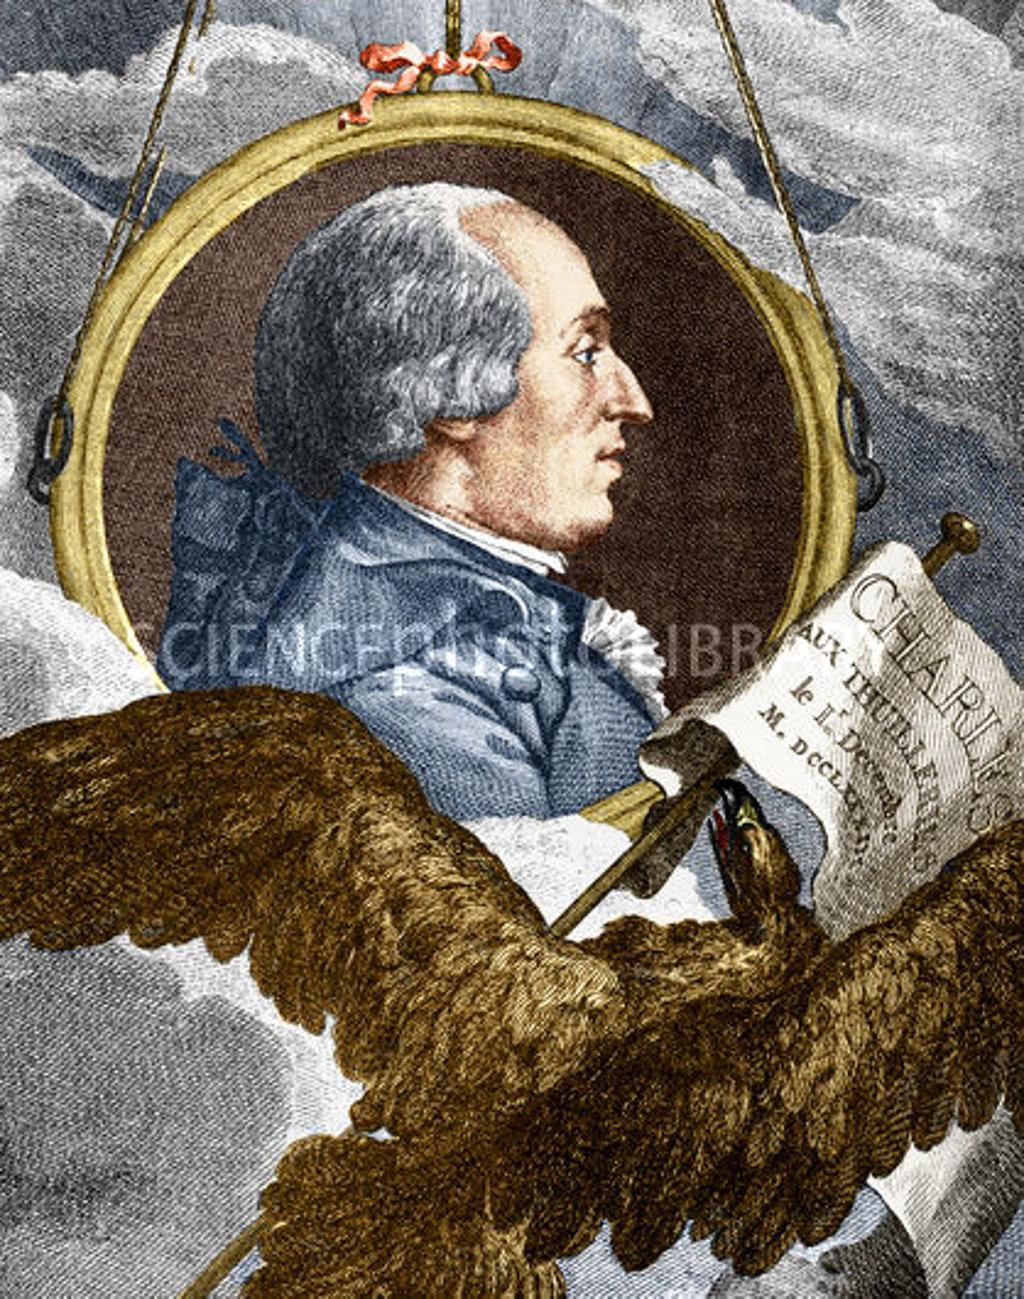face: (457, 201, 652, 531)
